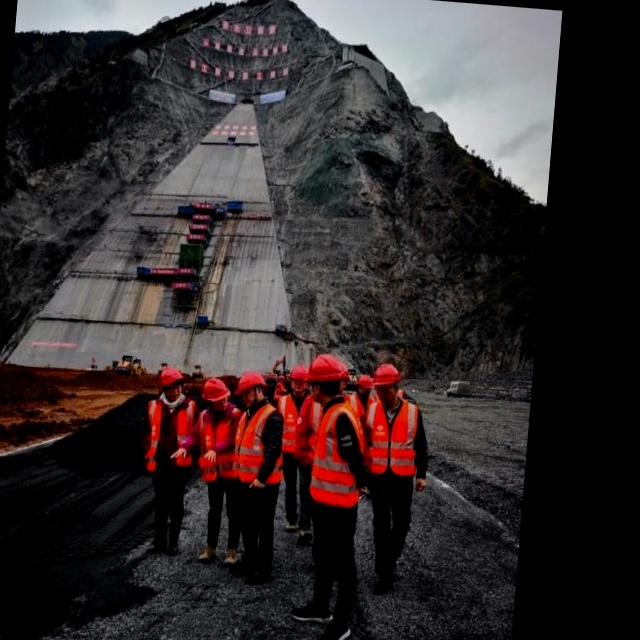Con_Chaleco: (307, 401, 366, 508), (229, 403, 289, 487), (359, 395, 421, 476), (141, 396, 196, 473), (194, 406, 243, 483)
